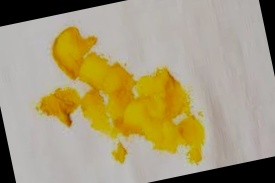mustard: (86, 48, 208, 174), (33, 77, 111, 146), (43, 23, 113, 96)
